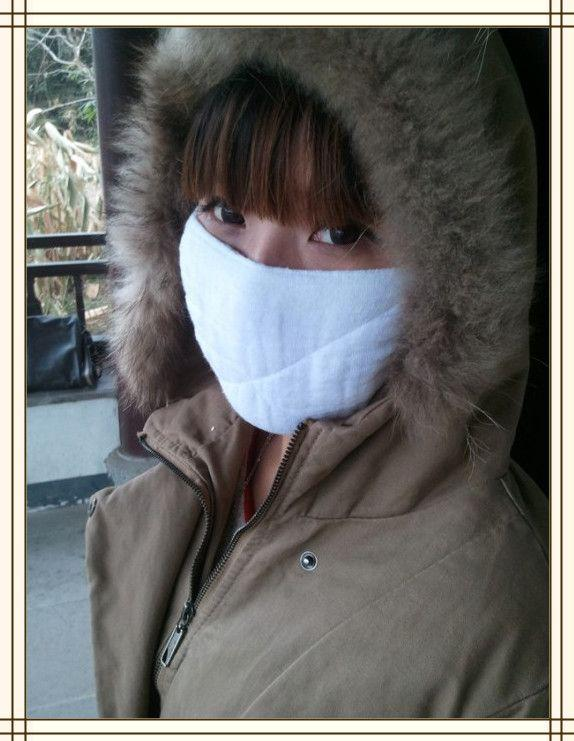OK: (175, 171, 420, 416)
